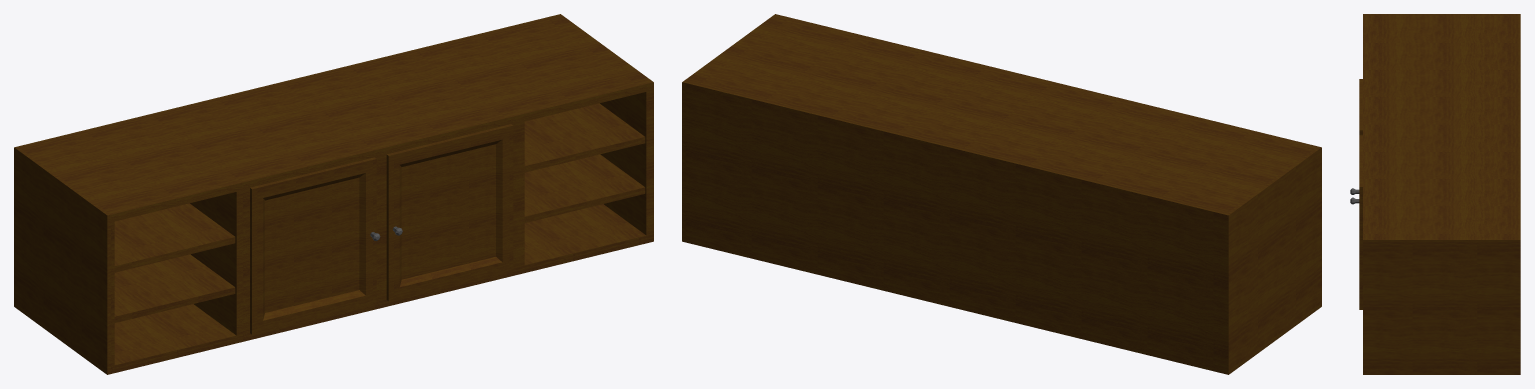
The model's file is Upper shelf.fbx.
3 views of the same model, side by side, from view 1: azimuth 30°, elevation 25°; view 2: azimuth 150°, elevation 25°; view 3: azimuth 270°, elevation 25° (orthographic). The views are drawn at different scales.
Parts seen in each view (by area): view 1: Cube.001; view 2: Cube.001; view 3: Cube.001.
Part boxes in pixels (x1,y1,x2,y2): Cube.001: (14, 14, 653, 374); Cube.001: (682, 14, 1321, 374); Cube.001: (1350, 14, 1520, 374).
Bounding box in the file's own units: 1552 × 433 × 495.
2 materials, 1 textured.
